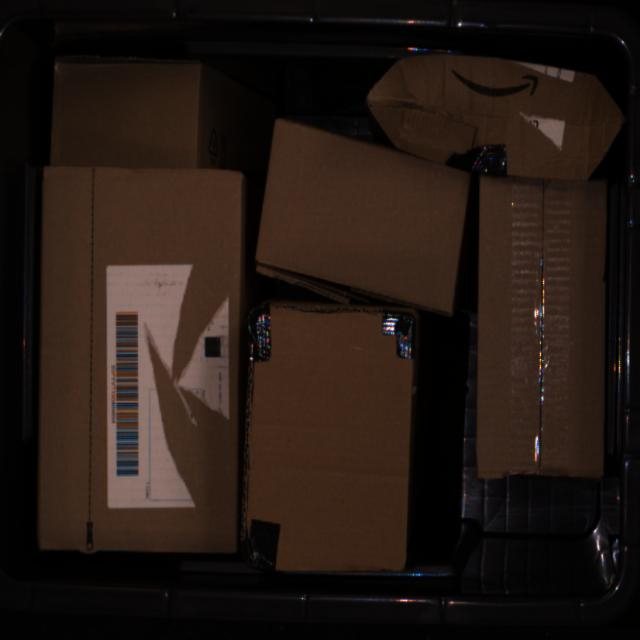Cardboard Box: (36, 160, 246, 557), (244, 294, 419, 575), (253, 113, 472, 316), (474, 170, 609, 481), (365, 47, 624, 179), (47, 52, 250, 167)
